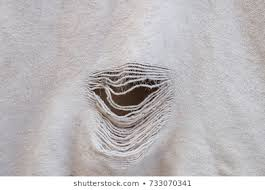Hole: (63, 42, 192, 159)
